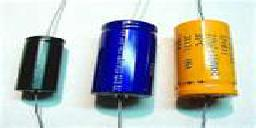Electrolytic-Capacitor: (170, 10, 242, 108), (16, 1, 70, 128), (91, 15, 160, 106)
